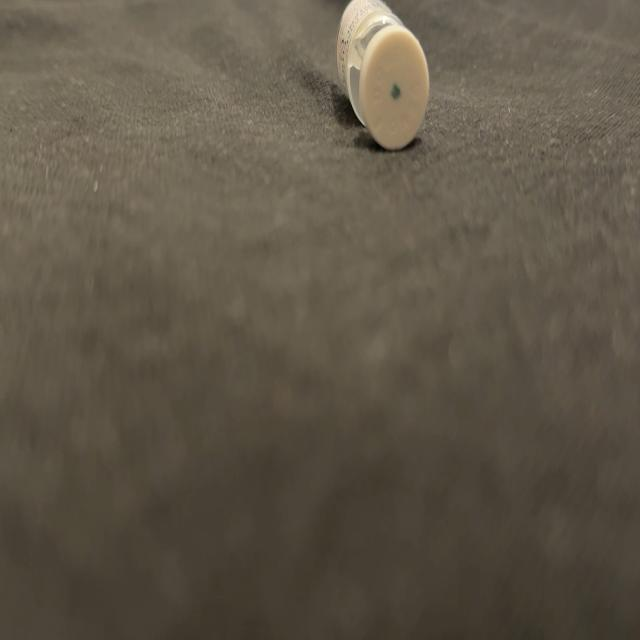fentanl_citrat: (338, 3, 428, 148)
